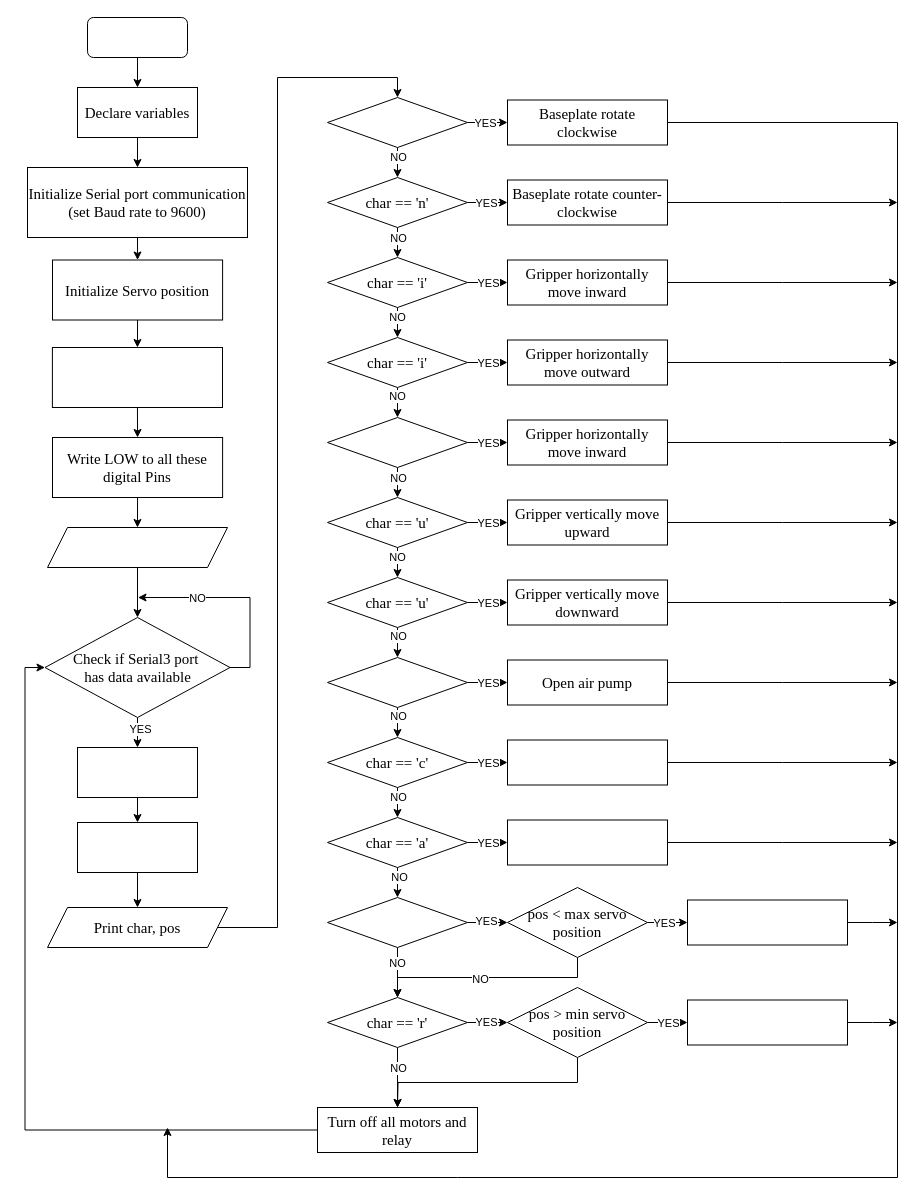
The diagram is 923 pixels wide and 1203 high, and some of its shapes have lost their labels. Here are the shapes that lost their labels. From the top down, the box of each, then its label:
(86, 16, 188, 58): Start
(326, 96, 468, 148): char == 's'
(51, 346, 222, 408): Set DC motors and relay pins to OUTPUT
(326, 416, 468, 468): char == 'o'
(46, 526, 228, 568): Print welcome message
(326, 656, 468, 708): char == 'b'
(76, 746, 198, 798): Read character (char) at Serial3 Port
(506, 739, 668, 785): Close air pump
(76, 822, 198, 872): Read servo position (pos)
(506, 819, 668, 865): Turn on relay
(326, 896, 468, 948): char == 'l'
(686, 899, 848, 945): Gripper servo rotate clockwise
(686, 999, 848, 1045): Gripper servo rotate counter clockwise
